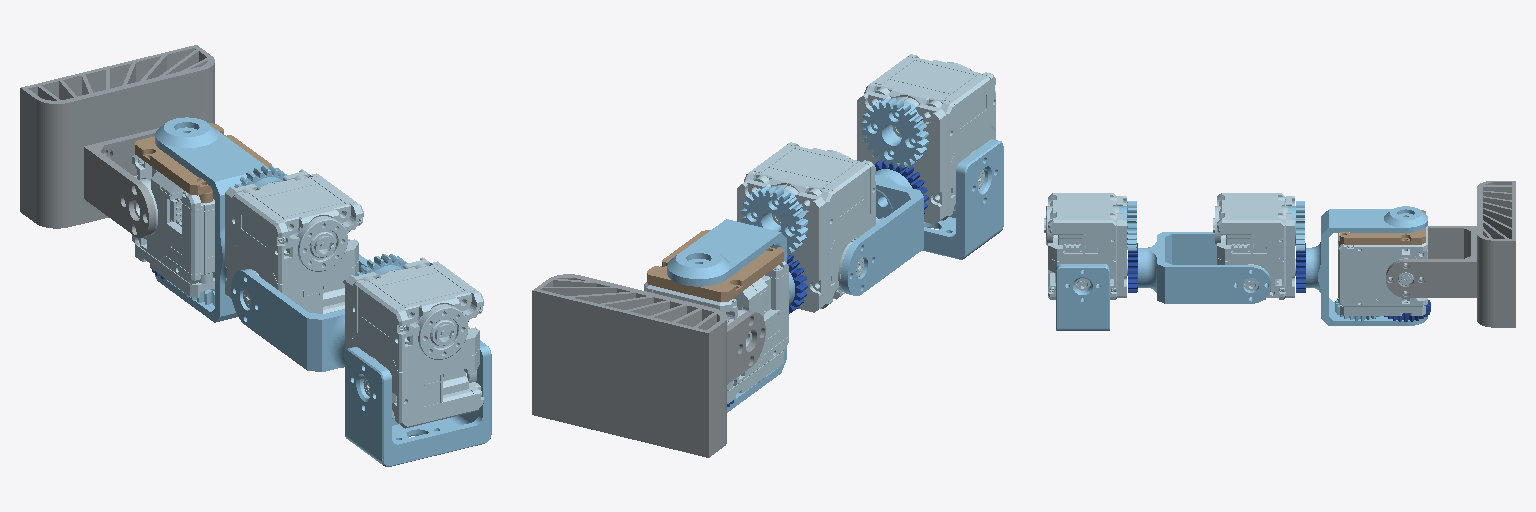
robot.urdf — left_arm_active:
<?xml version="1.0" ?><robot name="left_arm_active">  
  <link name="sho_pitch_link">    
    <visual>      
      <origin xyz="0 0 0" rpy="0 -0 0"/>      
      <geometry>        
        <mesh filename="package:///meshes/left_sho_pitch_link_visual.stl"/>        
      </geometry>      
      <material name="sho_pitch_link_material">        
        <color rgba="0.61568627450980395466 0.81176470588235294379 0.92941176470588227065 1.0"/>        
      </material>      
    </visual>    
    <collision>      
      <origin xyz="0 0 0" rpy="0 -0 0"/>      
      <geometry>        
        <mesh filename="package:///meshes/left_sho_pitch_link_collision.stl"/>        
      </geometry>      
    </collision>    
    <inertial>      
      <origin xyz="2.844942307502240611e-19 -2.0629817293647713033e-18 0.012913250798677606071" rpy="0 0 0"/>      
      <mass value="0.0085999999999999982708"/>      
      <inertia ixx="1.8365636406635808026e-06" ixy="0" ixz="0" iyy="4.0110869076839143695e-06" iyz="0" izz="3.5160516450492489574e-06"/>      
    </inertial>    
  </link>  

  <link name="2xl430_gears">    
    <visual>      
      <origin xyz="0 0 0" rpy="0 -0 0"/>      
      <geometry>        
        <mesh filename="package:///meshes/left_2xl430_gears_visual.stl"/>        
      </geometry>      
      <material name="2xl430_gears_material">        
        <color rgba="0.7591476792056923717 0.85560384745670925444 0.90519468321360618823 1.0"/>        
      </material>      
    </visual>    
    <collision>      
      <origin xyz="0 0 0" rpy="0 -0 0"/>      
      <geometry>        
        <mesh filename="package:///meshes/left_2xl430_gears_collision.stl"/>        
      </geometry>      
    </collision>    
    <inertial>      
      <origin xyz="-0.011592905737981712769 -0.0024238553642539671998 -0.018551095523800652243" rpy="0 0 0"/>      
      <mass value="0.11800003674524907338"/>      
      <inertia ixx="2.7511021050425133908e-05" ixy="9.0043904315059330372e-07" ixz="-2.3349710123437291678e-08" iyy="3.2796197843345773501e-05" iyz="-6.5715119654595532665e-07" izz="3.577573983574187309e-05"/>      
    </inertial>    
  </link>  

  <link name="spur_1m_24t_drive">    
    <visual>      
      <origin xyz="0 0 0" rpy="0 -0 0"/>      
      <geometry>        
        <mesh filename="package:///meshes/left_spur_1m_24t_drive_visual.stl"/>        
      </geometry>      
      <material name="spur_1m_24t_drive_material">        
        <color rgba="0.61568627450980395466 0.81176470588235294379 0.92941176470588238168 1.0"/>        
      </material>      
    </visual>    
    <collision>      
      <origin xyz="0 0 0" rpy="0 -0 0"/>      
      <geometry>        
        <mesh filename="package:///meshes/left_spur_1m_24t_drive_collision.stl"/>        
      </geometry>      
    </collision>    
    <inertial>      
      <origin xyz="3.0325499508169297121e-15 -3.3903525173049749467e-16 0.0048096451474093056613" rpy="0 0 0"/>      
      <mass value="0.003200000000000000587"/>      
      <inertia ixx="1.409759888701696132e-07" ixy="1.5562823101719447534e-15" ixz="1.3007821291259216684e-36" iyy="1.4097598803636001492e-07" iyz="2.0801757662181525674e-36" izz="2.4107776386988840789e-07"/>      
    </inertial>    
  </link>  

  <joint name="left_sho_yaw_drive" type="fixed">    
    <origin xyz="-0.024000000716141004636 -0.019000000152450600283 -0.019000000152443286688" rpy="1.5707963267948328312 -1.2258104172924911424e-15 7.6362147953450801566e-14"/>    
    <parent link="2xl430_gears"/>    
    <child link="spur_1m_24t_drive"/>    
    <axis xyz="0 0 1"/>    
    <limit effort="1" velocity="20"/>    
    <joint_properties friction="0.0"/>    
  </joint>  

  <link name="spur_1m_24t_driven">    
    <visual>      
      <origin xyz="0 0 0" rpy="0 -0 0"/>      
      <geometry>        
        <mesh filename="package:///meshes/left_spur_1m_24t_driven_visual.stl"/>        
      </geometry>      
      <material name="spur_1m_24t_driven_material">        
        <color rgba="0.2313725490196078538 0.38039215686274507888 0.7058823529411765163 1.0"/>        
      </material>      
    </visual>    
    <collision>      
      <origin xyz="0 0 0" rpy="0 -0 0"/>      
      <geometry>        
        <mesh filename="package:///meshes/left_spur_1m_24t_driven_collision.stl"/>        
      </geometry>      
    </collision>    
    <inertial>      
      <origin xyz="-2.9213946397903144375e-18 -1.6882049367809079234e-15 -0.00097237500038395430213" rpy="0 0 0"/>      
      <mass value="0.0026999999999999992756"/>      
      <inertia ixx="1.2202334915684080498e-07" ixy="-5.4145940442873835343e-38" ixz="-1.2988080445849957547e-37" iyy="1.2202334915684064616e-07" iyz="-1.77752564560030155e-37" izz="2.3180293204341252239e-07"/>      
    </inertial>    
  </link>  

  <link name="sho_yaw_link">    
    <visual>      
      <origin xyz="0 0 0" rpy="0 -0 0"/>      
      <geometry>        
        <mesh filename="package:///meshes/left_sho_yaw_link_visual.stl"/>        
      </geometry>      
      <material name="sho_yaw_link_material">        
        <color rgba="0.61568627450980395466 0.81176470588235294379 0.92941176470588227065 1.0"/>        
      </material>      
    </visual>    
    <collision>      
      <origin xyz="0 0 0" rpy="0 -0 0"/>      
      <geometry>        
        <mesh filename="package:///meshes/left_sho_yaw_link_collision.stl"/>        
      </geometry>      
    </collision>    
    <inertial>      
      <origin xyz="-1.286384586061391173e-18 3.5695430205023123066e-18 -0.024649285094360075254" rpy="0 0 0"/>      
      <mass value="0.014499999999999997266"/>      
      <inertia ixx="9.2365904614004456494e-06" ixy="3.5862833440692663253e-13" ixz="2.4228256401784178556e-43" iyy="5.8163826335078791714e-06" iyz="1.6375773286667065811e-35" izz="4.5074356741562122031e-06"/>      
    </inertial>    
  </link>  

  <link name="2xl430_gears_2">    
    <visual>      
      <origin xyz="0 0 0" rpy="0 -0 0"/>      
      <geometry>        
        <mesh filename="package:///meshes/left_2xl430_gears_2_visual.stl"/>        
      </geometry>      
      <material name="2xl430_gears_2_material">        
        <color rgba="0.7591476792056923717 0.85560384745670925444 0.90519468321360618823 1.0"/>        
      </material>      
    </visual>    
    <collision>      
      <origin xyz="0 0 0" rpy="0 -0 0"/>      
      <geometry>        
        <mesh filename="package:///meshes/left_2xl430_gears_2_collision.stl"/>        
      </geometry>      
    </collision>    
    <inertial>      
      <origin xyz="-0.011592905737977807906 -0.0024238553642531254252 -0.018551095523810002402" rpy="0 0 0"/>      
      <mass value="0.11800003674524907338"/>      
      <inertia ixx="2.7511021050425465945e-05" ixy="9.0043904315422591039e-07" ixz="-2.334971012485675677e-08" iyy="3.2796197843347501448e-05" iyz="-6.5715119654968068343e-07" izz="3.577573983574221868e-05"/>      
    </inertial>    
  </link>  

  <link name="spur_1m_24t_drive_2">    
    <visual>      
      <origin xyz="0 0 0" rpy="0 -0 0"/>      
      <geometry>        
        <mesh filename="package:///meshes/left_spur_1m_24t_drive_2_visual.stl"/>        
      </geometry>      
      <material name="spur_1m_24t_drive_2_material">        
        <color rgba="0.61568627450980395466 0.81176470588235294379 0.92941176470588238168 1.0"/>        
      </material>      
    </visual>    
    <collision>      
      <origin xyz="0 0 0" rpy="0 -0 0"/>      
      <geometry>        
        <mesh filename="package:///meshes/left_spur_1m_24t_drive_2_collision.stl"/>        
      </geometry>      
    </collision>    
    <inertial>      
      <origin xyz="3.0394888447208369405e-15 -3.390352517563468395e-16 0.0048096451474092995898" rpy="0 0 0"/>      
      <mass value="0.003200000000000000587"/>      
      <inertia ixx="1.409759888701696132e-07" ixy="1.5562823134806672036e-15" ixz="-3.6361635223987515727e-36" iyy="1.4097598803636001492e-07" iyz="4.7806671134578107202e-36" izz="2.4107776386988840789e-07"/>      
    </inertial>    
  </link>  

  <joint name="left_elbow_yaw_drive" type="fixed">    
    <origin xyz="-0.024000000716137528251 -0.019000000152447529822 -0.019000000152459547986" rpy="1.5707963267950562081 -2.470884284845533208e-13 -1.8325179342287309205e-13"/>    
    <parent link="2xl430_gears_2"/>    
    <child link="spur_1m_24t_drive_2"/>    
    <axis xyz="0 0 1"/>    
    <limit effort="1" velocity="20"/>    
    <joint_properties friction="0.0"/>    
  </joint>  

  <link name="spur_1m_24t_driven_2">    
    <visual>      
      <origin xyz="0 0 0" rpy="0 -0 0"/>      
      <geometry>        
        <mesh filename="package:///meshes/left_spur_1m_24t_driven_2_visual.stl"/>        
      </geometry>      
      <material name="spur_1m_24t_driven_2_material">        
        <color rgba="0.2313725490196078538 0.38039215686274507888 0.7058823529411765163 1.0"/>        
      </material>      
    </visual>    
    <collision>      
      <origin xyz="0 0 0" rpy="0 -0 0"/>      
      <geometry>        
        <mesh filename="package:///meshes/left_spur_1m_24t_driven_2_collision.stl"/>        
      </geometry>      
    </collision>    
    <inertial>      
      <origin xyz="-2.921394639791806648e-18 -1.6884437429067410177e-15 -0.00097237500038395083268" rpy="0 0 0"/>      
      <mass value="0.0026999999999999992756"/>      
      <inertia ixx="1.2202334915684080498e-07" ixy="7.4096137295016845706e-48" ixz="1.4947377821783810374e-36" iyy="1.2202334915684064616e-07" iyz="-3.3166193969048702202e-38" izz="2.3180293204341252239e-07"/>      
    </inertial>    
  </link>  

  <link name="elb_yaw_link">    
    <visual>      
      <origin xyz="0 0 0" rpy="0 -0 0"/>      
      <geometry>        
        <mesh filename="package:///meshes/left_elb_yaw_link_visual.stl"/>        
      </geometry>      
      <material name="elb_yaw_link_material">        
        <color rgba="0.61568627450980395466 0.81176470588235294379 0.92941176470588227065 1.0"/>        
      </material>      
    </visual>    
    <collision>      
      <origin xyz="0 0 0" rpy="0 -0 0"/>      
      <geometry>        
        <mesh filename="package:///meshes/left_elb_yaw_link_collision.stl"/>        
      </geometry>      
    </collision>    
    <inertial>      
      <origin xyz="5.3127688027528164616e-08 0.0019833638641961631212 -0.023416643551549959357" rpy="0 0 0"/>      
      <mass value="0.017500000000000005135"/>      
      <inertia ixx="1.4134344903109199776e-05" ixy="1.6945783921983928598e-12" ixz="-1.128639872186547351e-11" iyy="6.6435900776211365815e-06" iyz="1.0545227077253057579e-06" izz="8.9925290757999010654e-06"/>      
    </inertial>    
  </link>  

  <link name="spur_1m_24t_driven_3">    
    <visual>      
      <origin xyz="0 0 0" rpy="0 -0 0"/>      
      <geometry>        
        <mesh filename="package:///meshes/left_spur_1m_24t_driven_3_visual.stl"/>        
      </geometry>      
      <material name="spur_1m_24t_driven_3_material">        
        <color rgba="0.2313725490196078538 0.38039215686274507888 0.7058823529411765163 1.0"/>        
      </material>      
    </visual>    
    <collision>      
      <origin xyz="0 0 0" rpy="0 -0 0"/>      
      <geometry>        
        <mesh filename="package:///meshes/left_spur_1m_24t_driven_3_collision.stl"/>        
      </geometry>      
    </collision>    
    <inertial>      
      <origin xyz="-2.9213946397903379339e-18 -1.6882049367809096984e-15 -0.0025723750003839584988" rpy="0 0 0"/>      
      <mass value="0.0026999999999999992756"/>      
      <inertia ixx="1.2202334915684085792e-07" ixy="-7.597511869414336567e-37" ixz="-3.9737463676803417348e-37" iyy="1.2202334915684064616e-07" iyz="1.9991124742867757866e-36" izz="2.3180293204341262827e-07"/>      
    </inertial>    
  </link>  

  <link name="2xl430_gears_3">    
    <visual>      
      <origin xyz="0 0 0" rpy="0 -0 0"/>      
      <geometry>        
        <mesh filename="package:///meshes/left_2xl430_gears_3_visual.stl"/>        
      </geometry>      
      <material name="2xl430_gears_3_material">        
        <color rgba="0.7591476792056923717 0.85560384745670925444 0.90519468321360618823 1.0"/>        
      </material>      
    </visual>    
    <collision>      
      <origin xyz="0 0 0" rpy="0 -0 0"/>      
      <geometry>        
        <mesh filename="package:///meshes/left_2xl430_gears_3_collision.stl"/>        
      </geometry>      
    </collision>    
    <inertial>      
      <origin xyz="0.00044890447620203491417 0.011592905379898174253 -0.024576144788197706176" rpy="0 0 0"/>      
      <mass value="0.11800003674524907338"/>      
      <inertia ixx="3.577573983574154783e-05" ixy="2.334971012357644331e-08" ixz="6.5715119654891581268e-07" iyy="2.7511021050426397682e-05" iyz="9.0043904315387936804e-07" izz="3.279619784334573962e-05"/>      
    </inertial>    
  </link>  

  <link name="spur_1m_24t_drive_3">    
    <visual>      
      <origin xyz="0 0 0" rpy="0 -0 0"/>      
      <geometry>        
        <mesh filename="package:///meshes/left_spur_1m_24t_drive_3_visual.stl"/>        
      </geometry>      
      <material name="spur_1m_24t_drive_3_material">        
        <color rgba="0.61568627450980395466 0.81176470588235294379 0.92941176470588238168 1.0"/>        
      </material>      
    </visual>    
    <collision>      
      <origin xyz="0 0 0" rpy="0 -0 0"/>      
      <geometry>        
        <mesh filename="package:///meshes/left_spur_1m_24t_drive_3_collision.stl"/>        
      </geometry>      
    </collision>    
    <inertial>      
      <origin xyz="3.0325499508169301065e-15 -3.3903525173049739606e-16 0.004809645147409304794" rpy="0 0 0"/>      
      <mass value="0.003200000000000000587"/>      
      <inertia ixx="1.4097598887016963967e-07" ixy="1.5562823188040112298e-15" ixz="-7.1146411252036594681e-36" iyy="1.4097598803636006786e-07" iyz="4.8797988584967110948e-37" izz="2.4107776386988840789e-07"/>      
    </inertial>    
  </link>  

  <joint name="left_wrist_pitch_drive" type="fixed">    
    <origin xyz="-1.524411552671568168e-10 0.024000000358058659611 -0.008000000000006885284" rpy="9.3688120281041050571e-15 -2.4754138690627644039e-13 -1.570796326794971387"/>    
    <parent link="2xl430_gears_3"/>    
    <child link="spur_1m_24t_drive_3"/>    
    <axis xyz="0 0 1"/>    
    <limit effort="1" velocity="20"/>    
    <joint_properties friction="0.0"/>    
  </joint>  

  <link name="hand">    
    <visual>      
      <origin xyz="0 0 0" rpy="0 -0 0"/>      
      <geometry>        
        <mesh filename="package:///meshes/left_hand_visual.stl"/>        
      </geometry>      
      <material name="hand_material">        
        <color rgba="0.64149913129808888712 0.67624720774385715938 0.69709605361131798951 1.0"/>        
      </material>      
    </visual>    
    <collision>      
      <origin xyz="0 0 0" rpy="0 -0 0"/>      
      <geometry>        
        <mesh filename="package:///meshes/left_hand_collision.stl"/>        
      </geometry>      
    </collision>    
    <inertial>      
      <origin xyz="-0.0037078693787434419127 0.042127339671143335109 -0.018490328271618890893" rpy="0 0 0"/>      
      <mass value="0.039499999999999972633"/>      
      <inertia ixx="2.4635502047218478788e-05" ixy="6.2323015589611017782e-07" ixz="1.4391446178023840611e-08" iyy="2.547520722095687786e-05" iyz="-4.087043358761638553e-08" izz="1.3466679248868386926e-05"/>      
    </inertial>    
  </link>  

  <joint name="left_wrist_roll" type="revolute">    
    <origin xyz="0.019000000000007885581 -3.580815921555569048e-10 -0.027000000152448064283" rpy="3.141592653589793116 -1.5707963267945475039 0"/>    
    <parent link="2xl430_gears_3"/>    
    <child link="hand"/>    
    <axis xyz="0 0 1"/>    
    <limit effort="1" velocity="20" lower="-1.9198621771937625091" upper="1.3962634015954635824"/>    
    <joint_properties friction="0.0"/>    
  </joint>  

  <link name="wrist_bearing_plate">    
    <visual>      
      <origin xyz="0 0 0" rpy="0 -0 0"/>      
      <geometry>        
        <mesh filename="package:///meshes/left_wrist_bearing_plate_visual.stl"/>        
      </geometry>      
      <material name="wrist_bearing_plate_material">        
        <color rgba="0.71932243125689065977 0.63128434304969727187 0.52422389360984933404 1.0"/>        
      </material>      
    </visual>    
    <collision>      
      <origin xyz="0 0 0" rpy="0 -0 0"/>      
      <geometry>        
        <mesh filename="package:///meshes/left_wrist_bearing_plate_collision.stl"/>        
      </geometry>      
    </collision>    
    <inertial>      
      <origin xyz="-0.0075835583121500104928 -0.015499999999999980807 -0.0018386323705903283732" rpy="0 0 0"/>      
      <mass value="0.0049000367468305548388"/>      
      <inertia ixx="4.9707430109150118544e-07" ixy="9.772578403706156965e-23" ixz="1.8100904820814061718e-08" iyy="7.1268523603538531883e-07" iyz="2.8274327301707633769e-24" izz="1.1919657811600109234e-06"/>      
    </inertial>    
  </link>  

  <joint name="left_wrist_pitch_fixed" type="fixed">    
    <origin xyz="0.015500000000007495629 -1.7430501486614957685e-14 -0.044999999999998895051" rpy="4.0578651550042264519e-14 -2.8213542612434331081e-13 -1.570796326794906328"/>    
    <parent link="2xl430_gears_3"/>    
    <child link="wrist_bearing_plate"/>    
    <axis xyz="0 0 1"/>    
    <limit effort="1" velocity="20"/>    
    <joint_properties friction="0.0"/>    
  </joint>  

  <joint name="left_wrist_pitch" type="revolute">    
    <origin xyz="5.5511151231257827021e-17 -1.0768204908351701201e-16 -0.0015999999999999989925" rpy="-2.6917187154893222538e-14 -2.664535259100368755e-14 -1.5707963267948947816"/>    
    <parent link="spur_1m_24t_driven_3"/>    
    <child link="2xl430_gears_3"/>    
    <axis xyz="0 0 1"/>    
    <limit effort="1" velocity="20" lower="-1.3962634015954635824" upper="1.9198621771937625091"/>    
    <joint_properties friction="0.0"/>    
  </joint>  

  <joint name="left_wrist_roll_fixed" type="fixed">    
    <origin xyz="-1.0768204908351070112e-16 -0.025300000000000003042 -0.052000000000000046185" rpy="1.5707963267949236474 -1.5707963267948696906 0"/>    
    <parent link="elb_yaw_link"/>    
    <child link="spur_1m_24t_driven_3"/>    
    <axis xyz="0 0 1"/>    
    <limit effort="1" velocity="20"/>    
    <joint_properties friction="0.0"/>    
  </joint>  

  <joint name="left_elbow_yaw_fixed" type="fixed">    
    <origin xyz="1.7349786990156647659e-17 0 0.0015999999999999764411" rpy="-3.141592653589793116 1.7371588864105923723e-15 -2.0739916668533996057e-29"/>    
    <parent link="spur_1m_24t_driven_2"/>    
    <child link="elb_yaw_link"/>    
    <axis xyz="0 0 1"/>    
    <limit effort="1" velocity="20"/>    
    <joint_properties friction="0.0"/>    
  </joint>  

  <joint name="left_elbow_yaw" type="revolute">    
    <origin xyz="-3.5806395001780622067e-10 -0.027000000152452907631 -0.019000000000006594947" rpy="1.5707963267949571762 1.5707963267947395725 0"/>    
    <parent link="2xl430_gears_2"/>    
    <child link="spur_1m_24t_driven_2"/>    
    <axis xyz="0 0 1"/>    
    <limit effort="1" velocity="20" lower="-2.6179938779914944114" upper="2.6179938779914944114"/>    
    <joint_properties friction="0.0"/>    
  </joint>  

  <joint name="left_elbow_roll" type="revolute">    
    <origin xyz="0 -0.018999999999999999528 -0.05900000000000000383" rpy="1.570796326794896558 -8.2694607970959069176e-16 -2.2204460490005989148e-16"/>    
    <parent link="sho_yaw_link"/>    
    <child link="2xl430_gears_2"/>    
    <axis xyz="0 0 1"/>    
    <limit effort="1" velocity="20" lower="-1.9198621771937625091" upper="2.4434609527920612138"/>    
    <joint_properties friction="0.0"/>    
  </joint>  

  <joint name="left_sho_yaw_fixed" type="fixed">    
    <origin xyz="0 -3.9443045261050590271e-31 0.0016000000000000041966" rpy="-3.1415926535897917837 7.7715611727616959238e-16 7.7715611725338728944e-16"/>    
    <parent link="spur_1m_24t_driven"/>    
    <child link="sho_yaw_link"/>    
    <axis xyz="0 0 1"/>    
    <limit effort="1" velocity="20"/>    
    <joint_properties friction="0.0"/>    
  </joint>  

  <joint name="left_sho_yaw" type="revolute">    
    <origin xyz="-3.5807028869738743992e-10 -0.027000000152450923108 -0.018999999999999878098" rpy="1.5707963267948492625 8.0395273179087848749e-14 9.4924068605497912938e-14"/>    
    <parent link="2xl430_gears"/>    
    <child link="spur_1m_24t_driven"/>    
    <axis xyz="0 0 1"/>    
    <limit effort="1" velocity="20" lower="-2.6179938779914944114" upper="2.6179938779914944114"/>    
    <joint_properties friction="0.0"/>    
  </joint>  

  <joint name="left_sho_roll" type="revolute">    
    <origin xyz="-0.018999999999999999528 9.3241386866726118567e-18 0.027000000000000006634" rpy="-3.141592653589793116 1.5707963267948936714 0"/>    
    <parent link="sho_pitch_link"/>    
    <child link="2xl430_gears"/>    
    <axis xyz="0 0 1"/>    
    <limit effort="1" velocity="20" lower="-1.570796326794896558" upper="0.34906585039886589561"/>    
    <joint_properties friction="0.0"/>    
  </joint>  


</robot>

--- Render facts (derived) ---
Views: 3 orthographic renders of the robot side by side, from view 1: azimuth 30°, elevation 25°; view 2: azimuth 150°, elevation 25°; view 3: azimuth 270°, elevation 25°.
Robot: left_arm_active — 14 links, 13 joints (6 revolute, 7 fixed); root link sho_pitch_link; default pose: every joint at zero.
Visible links, largest first — view 1: hand, 2xl430_gears, 2xl430_gears_2, sho_pitch_link, 2xl430_gears_3, elb_yaw_link, sho_yaw_link, wrist_bearing_plate, spur_1m_24t_drive, spur_1m_24t_drive_2; view 2: hand, 2xl430_gears_2, 2xl430_gears, sho_yaw_link, sho_pitch_link, elb_yaw_link, 2xl430_gears_3, spur_1m_24t_drive, wrist_bearing_plate, spur_1m_24t_drive_2, spur_1m_24t_driven_2, spur_1m_24t_driven; view 3: hand, sho_yaw_link, 2xl430_gears_2, 2xl430_gears, 2xl430_gears_3, elb_yaw_link, sho_pitch_link, wrist_bearing_plate, spur_1m_24t_drive, spur_1m_24t_drive_2.
Boxes of the visible links, x1,y1,x2,y2 form: hand: (20,45,214,237); 2xl430_gears: (345,257,483,428); 2xl430_gears_2: (225,169,363,313); sho_pitch_link: (345,340,491,466); 2xl430_gears_3: (132,153,214,297); elb_yaw_link: (155,117,267,322); sho_yaw_link: (231,254,367,371); wrist_bearing_plate: (135,123,271,202); spur_1m_24t_drive: (355,254,407,275); spur_1m_24t_drive_2: (234,166,286,187); hand: (532,274,765,457); 2xl430_gears_2: (737,142,875,312); 2xl430_gears: (857,54,995,224); sho_yaw_link: (841,169,923,295); sho_pitch_link: (922,139,1003,259); elb_yaw_link: (667,219,794,412); 2xl430_gears_3: (644,261,788,403); spur_1m_24t_drive: (861,98,928,167); wrist_bearing_plate: (647,230,783,301); spur_1m_24t_drive_2: (741,186,807,253); spur_1m_24t_driven_2: (787,254,807,313); spur_1m_24t_driven: (874,160,928,213); hand: (1386,181,1515,327); sho_yaw_link: (1138,232,1270,303); 2xl430_gears_2: (1213,193,1295,299); 2xl430_gears: (1044,193,1127,299); 2xl430_gears_3: (1338,226,1427,315); elb_yaw_link: (1306,206,1427,325); sho_pitch_link: (1056,264,1109,330); wrist_bearing_plate: (1339,210,1425,245); spur_1m_24t_drive: (1119,201,1136,250); spur_1m_24t_drive_2: (1288,201,1304,250).
Bounding box of the posed robot: 0.074 × 0.2452 × 0.0652 m (x, y, z).
Meshes: 14 distinct files referenced, 14 mesh visuals loaded (14 binary STL).
